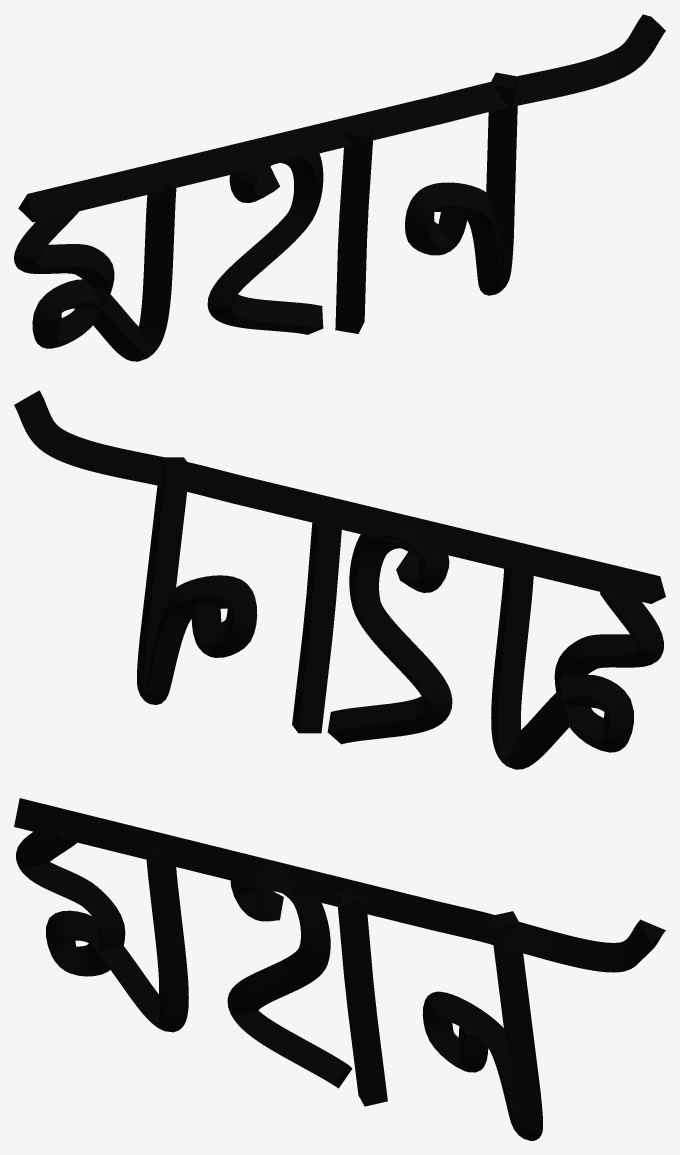
The model's file is mohan.glb.
The picture shows the model from 3 angles, top to bottom: view 1: azimuth 30°, elevation 25°; view 2: azimuth 150°, elevation 25°; view 3: azimuth 330°, elevation 25°; orthographic projection.
Parts seen in each view (by area): view 1: mesh_id31, mesh_id35, mesh_id49, mesh_id39, mesh_id45; view 2: mesh_id31, mesh_id35, mesh_id49, mesh_id39, mesh_id45; view 3: mesh_id31, mesh_id35, mesh_id49, mesh_id39, mesh_id45.
Boxes of the visible parts, x1,y1,x2,y2 form: mesh_id31: (18, 14, 665, 222); mesh_id35: (14, 181, 176, 361); mesh_id49: (405, 72, 518, 295); mesh_id39: (207, 137, 323, 334); mesh_id45: (335, 125, 373, 333); mesh_id31: (14, 390, 665, 603); mesh_id35: (491, 563, 663, 769); mesh_id49: (137, 457, 257, 704); mesh_id39: (327, 518, 452, 744); mesh_id45: (292, 510, 341, 733); mesh_id31: (14, 798, 665, 972); mesh_id35: (16, 827, 188, 1032); mesh_id49: (422, 911, 542, 1140); mesh_id39: (227, 865, 352, 1088); mesh_id45: (336, 892, 387, 1106).
Size of the model in its own units: 1.32 by 0.5184 by 0.1272.
Materials: 5 (5 with a texture image).
